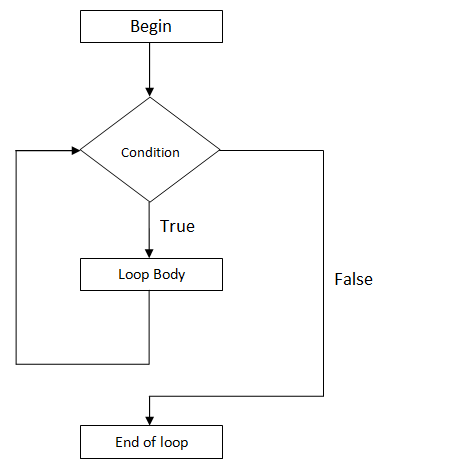arrow: (142, 147, 328, 426), (12, 144, 153, 368), (144, 200, 156, 259)
decision: (77, 96, 225, 203)
process: (78, 7, 226, 46), (78, 255, 226, 292), (77, 423, 224, 460)
text: (113, 435, 193, 453), (116, 267, 189, 283), (119, 146, 183, 161), (128, 16, 174, 36), (332, 270, 374, 289), (142, 41, 156, 97), (158, 218, 198, 235)
